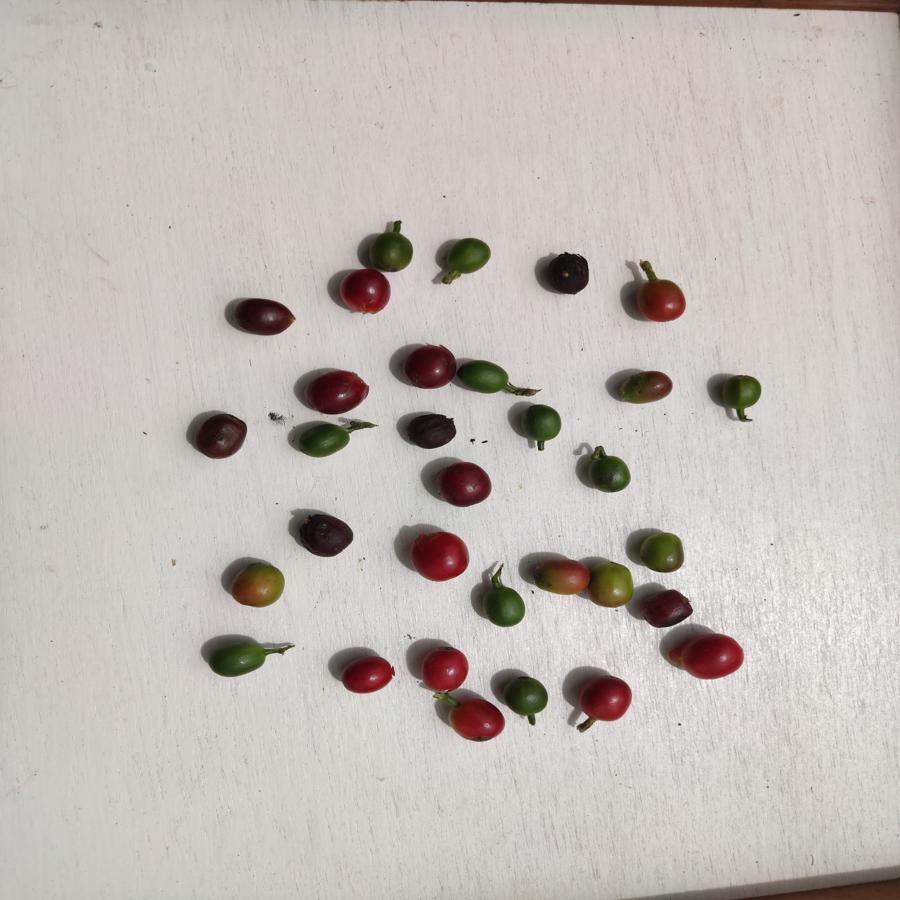Inmaduro: (210, 641, 272, 683), (586, 450, 636, 501), (477, 585, 527, 629), (297, 420, 350, 461), (443, 238, 498, 275), (501, 674, 549, 716), (456, 358, 511, 394), (522, 402, 567, 445), (366, 228, 413, 269), (720, 373, 763, 412)
Maduro: (683, 632, 750, 683), (410, 532, 471, 584), (450, 694, 504, 747), (636, 273, 693, 322), (340, 651, 398, 697), (580, 676, 634, 724), (421, 645, 468, 695)
Pinton: (224, 563, 290, 608), (532, 554, 588, 602), (586, 558, 636, 611), (614, 367, 674, 407), (638, 531, 685, 580)
Sobremaduro: (195, 408, 249, 464), (431, 460, 495, 507), (226, 295, 294, 338), (335, 268, 392, 317), (305, 370, 369, 412), (300, 513, 355, 558), (404, 406, 460, 450), (540, 251, 593, 296), (405, 342, 453, 391), (639, 589, 690, 630)
